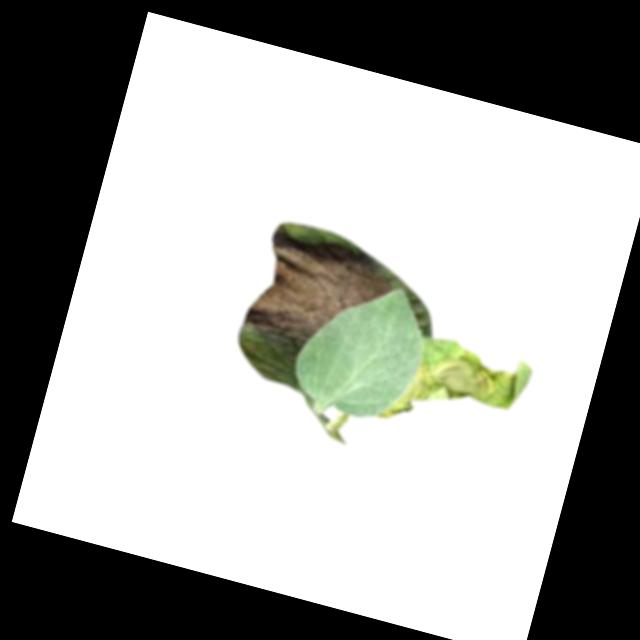Late_blight: (237, 224, 398, 365), (377, 328, 534, 454)
healthy: (283, 267, 435, 434)
